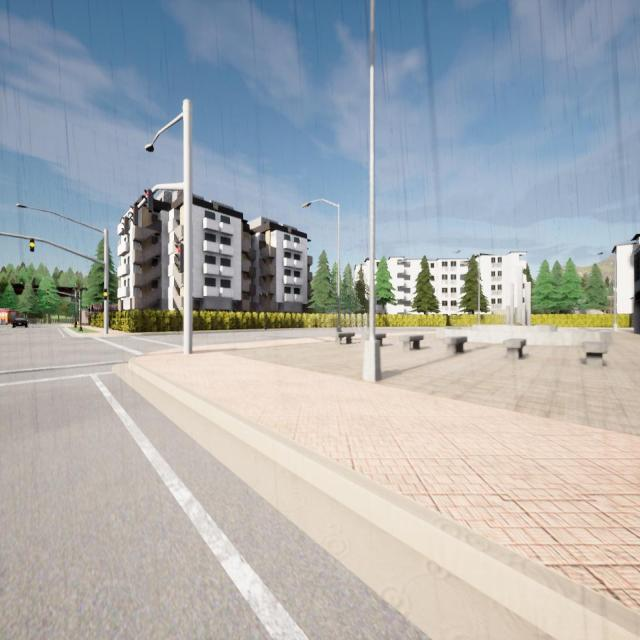Vehicle: (0, 308, 20, 325), (12, 316, 28, 328)
traffic_light: (174, 244, 184, 272), (144, 189, 153, 212), (130, 206, 138, 225), (122, 217, 128, 234), (30, 238, 34, 252), (104, 289, 108, 300), (37, 299, 39, 303), (48, 300, 50, 304), (60, 300, 62, 304), (47, 290, 49, 294)
